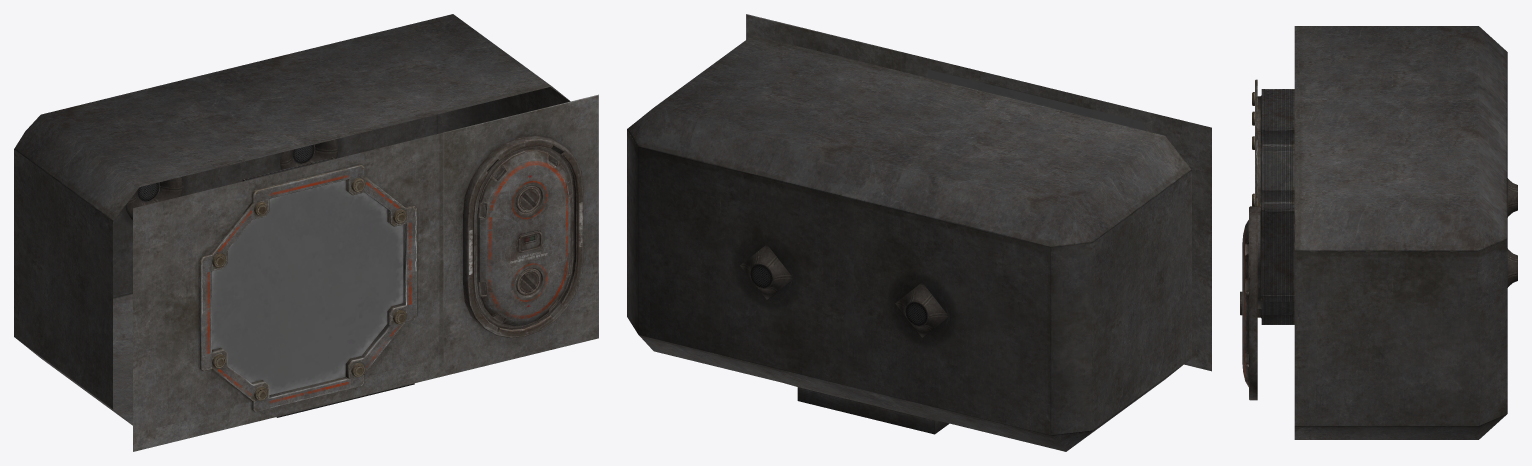
The model's file is 04_02_pressure_test_chamber_wall.dae.
3 renders of one model, left to right at view 1: azimuth 30°, elevation 25°; view 2: azimuth 150°, elevation 25°; view 3: azimuth 270°, elevation 25°, orthographic. The views are drawn at different scales.
Visible parts, largest first — view 1: pCube2, polySurface28, pPlane1, polySurface16, polySurface20, polySurface15, polySurface30, polySurface18, polySurface29; view 2: pCube2, polySurface28, polySurface30, pPlane1; view 3: pCube2, polySurface20, polySurface15, polySurface16, polySurface30.
Part boxes in pixels (x1=…): pCube2: x1=14, y1=14, x2=570, y2=425; polySurface28: x1=133, y1=94, x2=598, y2=451; pPlane1: x1=212, y1=180, x2=403, y2=394; polySurface16: x1=473, y1=146, x2=574, y2=328; polySurface20: x1=199, y1=157, x2=417, y2=412; polySurface15: x1=463, y1=135, x2=583, y2=338; polySurface30: x1=125, y1=139, x2=338, y2=219; polySurface18: x1=212, y1=178, x2=406, y2=400; polySurface29: x1=516, y1=186, x2=541, y2=295; pCube2: x1=627, y1=35, x2=1191, y2=451; polySurface28: x1=746, y1=14, x2=1211, y2=371; polySurface30: x1=740, y1=244, x2=948, y2=337; pPlane1: x1=927, y1=69, x2=1143, y2=130; pCube2: x1=1294, y1=26, x2=1507, y2=439; polySurface20: x1=1255, y1=79, x2=1294, y2=324; polySurface15: x1=1249, y1=206, x2=1257, y2=400; polySurface16: x1=1242, y1=220, x2=1248, y2=386; polySurface30: x1=1507, y1=178, x2=1517, y2=287.
Size of the model in its own units: 6 by 3.25 by 3.33.
